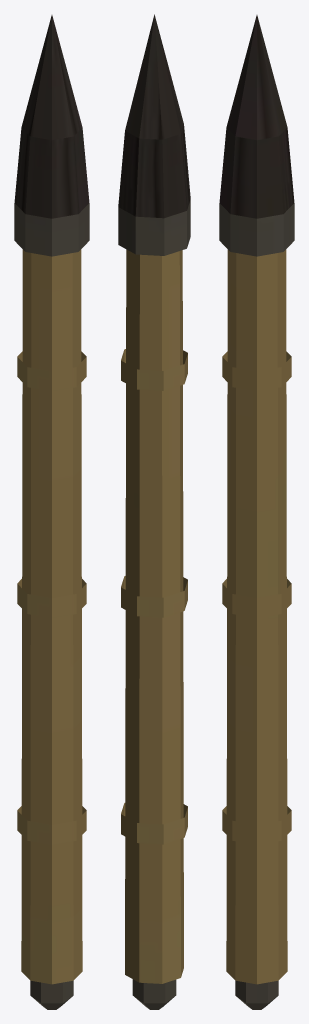
Rendered from wpn_brush_01.glb.
3 views of the same model, side by side, from view 1: azimuth 90°, elevation 25°; view 2: azimuth 150°, elevation 25°; view 3: azimuth 270°, elevation 25° (orthographic).
Visible parts, largest first — view 1: wpn_brush_01; view 2: wpn_brush_01; view 3: wpn_brush_01.
Part boxes in pixels (<box>): wpn_brush_01: <box>14,15,89,1009</box>; wpn_brush_01: <box>118,14,190,1009</box>; wpn_brush_01: <box>219,15,294,1009</box>.
Bounding box in the file's own units: 0.027 × 0.394 × 0.027.
3 materials, 3 textured.
